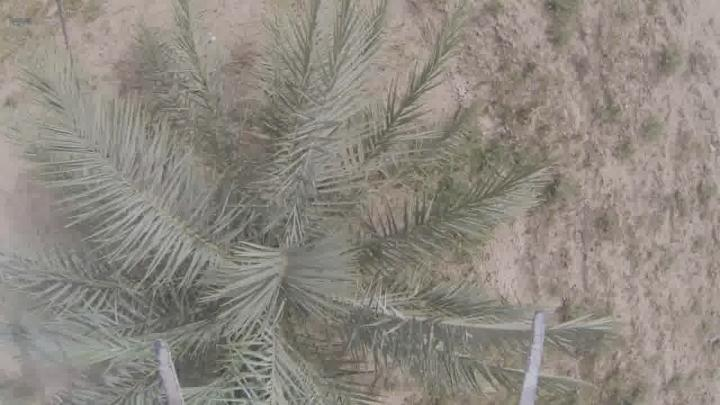Date-Palm-Crown: (96, 133, 420, 405)
